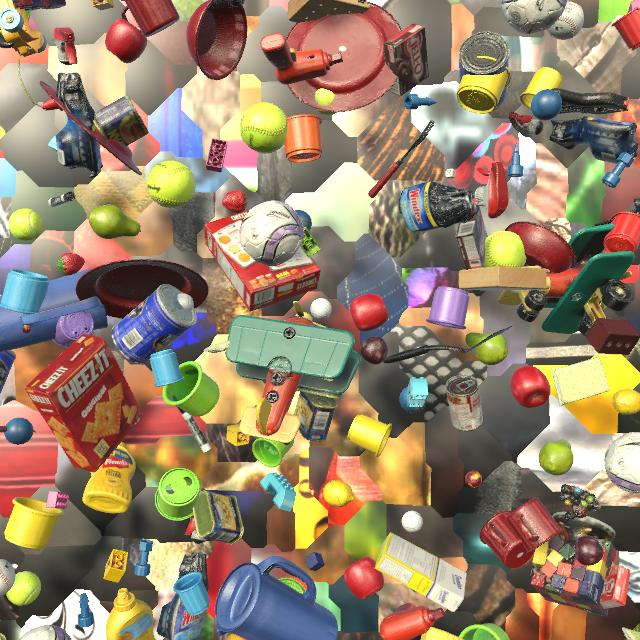ycb_002_master_chef_can: (111, 284, 197, 365), (458, 31, 510, 111), (0, 350, 16, 393)
ycb_003_cracker_box: (24, 334, 143, 473), (204, 211, 321, 311)
ycb_004_sugar_box: (374, 532, 467, 612)
ycb_005_tomato_soup_can: (445, 375, 483, 432)
ycb_006_mustard_bottle: (83, 442, 136, 513), (105, 588, 156, 640), (420, 627, 464, 640)
ycb_008_pudding_box: (383, 24, 429, 97), (456, 206, 488, 270)
ycb_009_gelatin_box: (600, 564, 631, 609)
ycb_010_potted_meat_can: (93, 95, 149, 146), (192, 491, 244, 545), (294, 391, 338, 442), (296, 378, 343, 399), (0, 633, 6, 640)
ycb_012_strawberry: (57, 253, 85, 275), (222, 190, 248, 213)
ycb_013_apple: (105, 19, 147, 63), (510, 366, 551, 408), (344, 556, 384, 599), (350, 294, 389, 332)
ycb_014_lemon: (323, 480, 354, 507), (612, 389, 640, 415)
ycb_015_peach: (226, 633, 247, 640)
ycb_016_pear: (89, 205, 141, 239), (465, 332, 508, 365), (538, 440, 574, 475)
ycb_018_plum: (575, 536, 604, 566), (360, 336, 388, 365)
